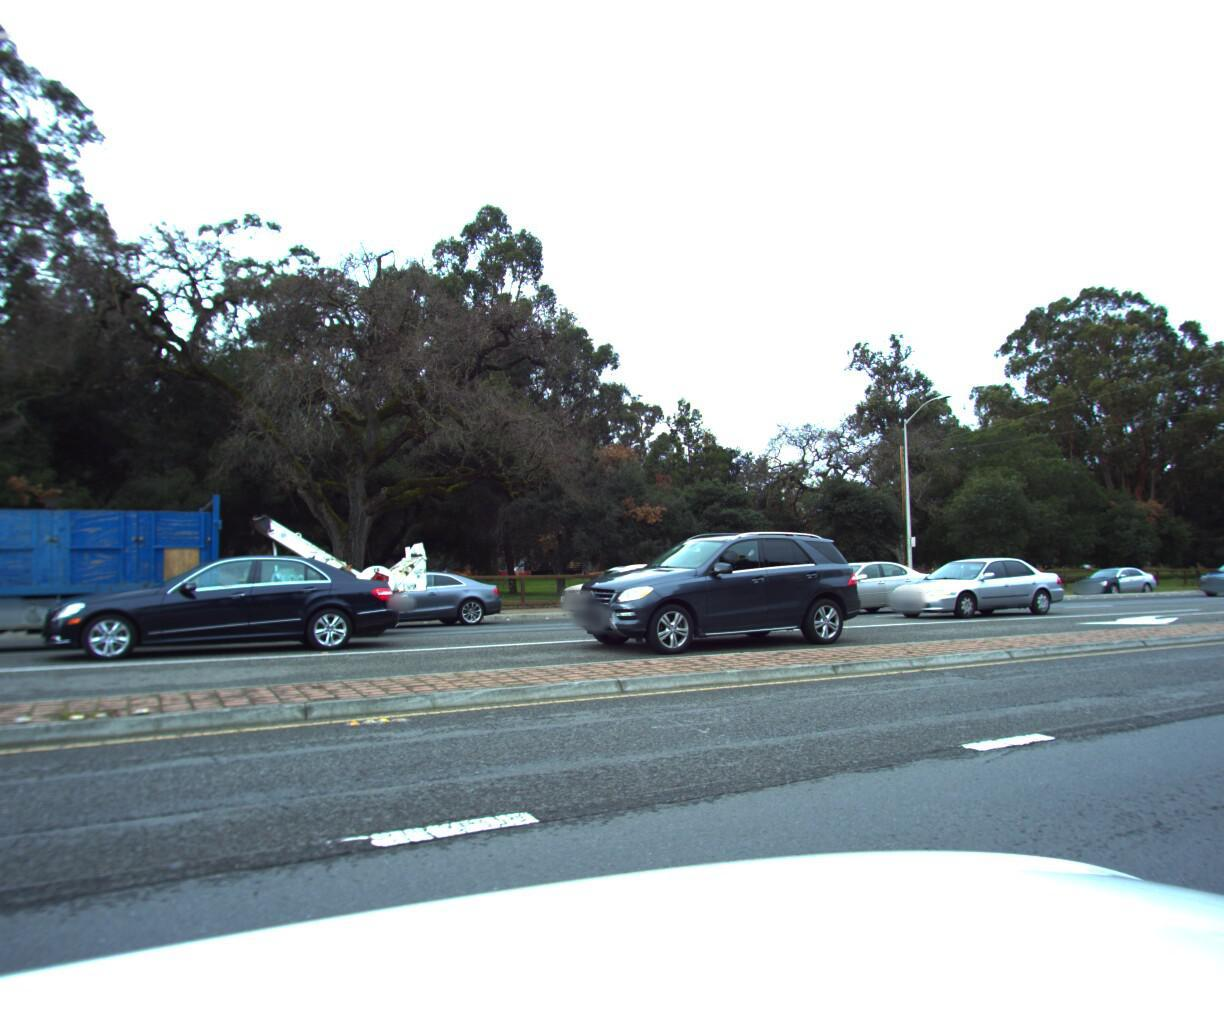car: (38, 549, 404, 673), (572, 522, 877, 650), (299, 563, 506, 625), (877, 551, 1067, 614), (840, 550, 1003, 609), (549, 562, 690, 610), (1065, 560, 1159, 591), (1184, 544, 1224, 589)
